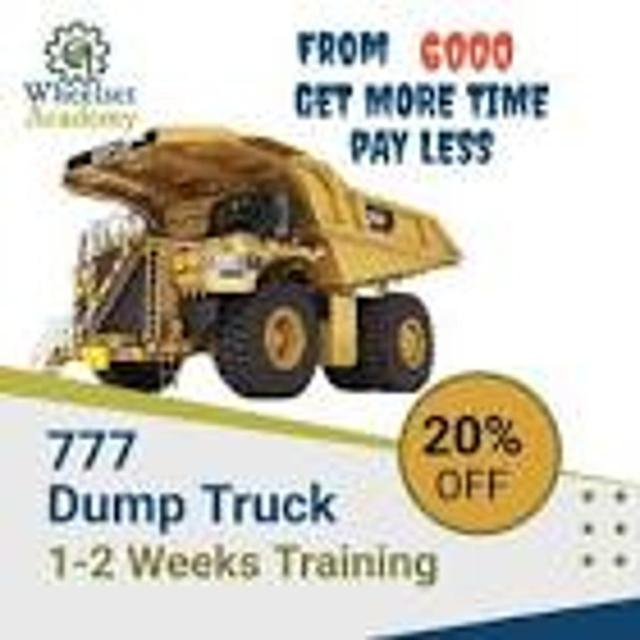dump_truck: (33, 123, 466, 391)
